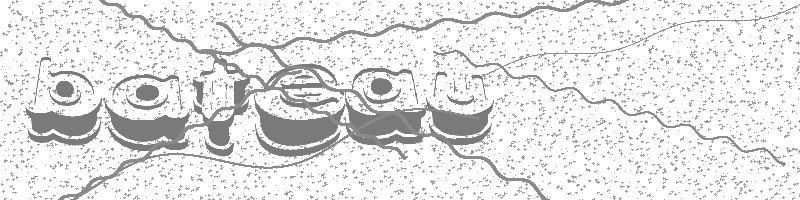a: (104, 72, 190, 151), (346, 67, 425, 145)
b: (25, 55, 104, 147)
e: (254, 63, 346, 157)
t: (191, 57, 251, 158)
u: (426, 71, 494, 146)
